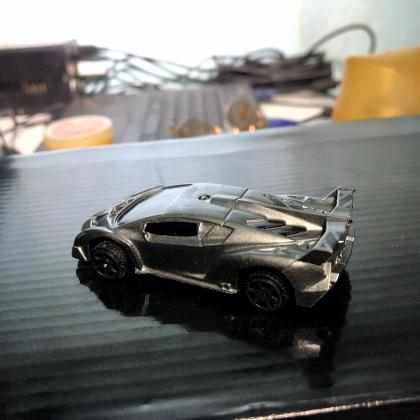Car: (71, 183, 356, 314)
